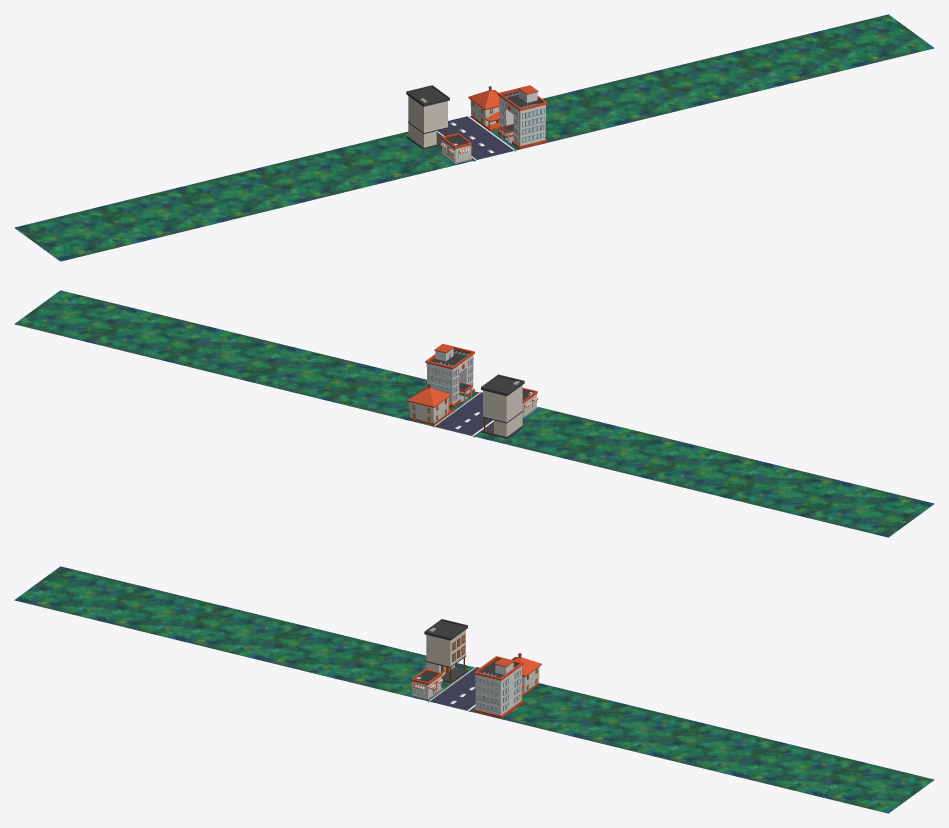
File: naselje.glb
3 renders of one model, top to bottom at view 1: azimuth 30°, elevation 25°; view 2: azimuth 150°, elevation 25°; view 3: azimuth 330°, elevation 25°, orthographic.
Parts seen in each view (by area): view 1: Plane.004, Plane.008, Plane.005, Plane.003, Plane.010, Plane.006, Plane.011, Plane.009, Plane.007, Hospital_Cube.023, Flat2_Cube.013, Plane.002 (+3 smaller); view 2: Plane.004, Plane.008, Plane.005, Plane.003, Plane.006, Plane.010, Plane.011, Plane.009, Plane.007, Plane.002, Hospital_Cube.023, Flat2_Cube.013 (+2 smaller); view 3: Plane.003, Plane.006, Plane.008, Plane.005, Plane.010, Plane.009, Plane.004, Plane.011, Plane.002, Plane.007, Hospital_Cube.023, Flat2_Cube.013 (+3 smaller).
Part boxes in pixels (x1=…): Plane.004: x1=650, y1=53, x2=775, y2=106; Plane.008: x1=250, y1=150, x2=376, y2=203; Plane.005: x1=729, y1=33, x2=854, y2=86; Plane.003: x1=569, y1=72, x2=694, y2=126; Plane.010: x1=92, y1=189, x2=218, y2=242; Plane.006: x1=809, y1=14, x2=934, y2=67; Plane.011: x1=14, y1=208, x2=139, y2=261; Plane.009: x1=172, y1=170, x2=295, y2=223; Plane.007: x1=330, y1=131, x2=456, y2=184; Hospital_Cube.023: x1=497, y1=85, x2=547, y2=148; Flat2_Cube.013: x1=406, y1=85, x2=449, y2=149; Plane.002: x1=535, y1=92, x2=614, y2=145; Plane.004: x1=174, y1=329, x2=298, y2=382; Plane.008: x1=572, y1=426, x2=698, y2=479; Plane.005: x1=94, y1=310, x2=219, y2=362; Plane.003: x1=254, y1=348, x2=379, y2=402; Plane.006: x1=14, y1=290, x2=139, y2=343; Plane.010: x1=730, y1=465, x2=856, y2=518; Plane.011: x1=809, y1=484, x2=934, y2=537; Plane.009: x1=653, y1=446, x2=777, y2=499; Plane.007: x1=492, y1=407, x2=618, y2=460; Plane.002: x1=334, y1=368, x2=427, y2=421; Hospital_Cube.023: x1=425, y1=343, x2=474, y2=407; Flat2_Cube.013: x1=481, y1=374, x2=524, y2=438; Plane.003: x1=569, y1=701, x2=695, y2=755; Plane.006: x1=808, y1=760, x2=934, y2=813; Plane.008: x1=250, y1=624, x2=376, y2=677; Plane.005: x1=729, y1=740, x2=854, y2=793; Plane.010: x1=93, y1=585, x2=216, y2=638; Plane.009: x1=171, y1=604, x2=297, y2=657; Plane.004: x1=650, y1=721, x2=774, y2=774; Plane.011: x1=14, y1=566, x2=139, y2=619; Plane.002: x1=489, y1=683, x2=614, y2=735; Plane.007: x1=331, y1=643, x2=426, y2=696; Hospital_Cube.023: x1=474, y1=656, x2=523, y2=718; Flat2_Cube.013: x1=424, y1=619, x2=467, y2=683.
Bounding box in the file's own units: 670 × 35.11 × 62.2.
Materials: 7 (5 with a texture image).
